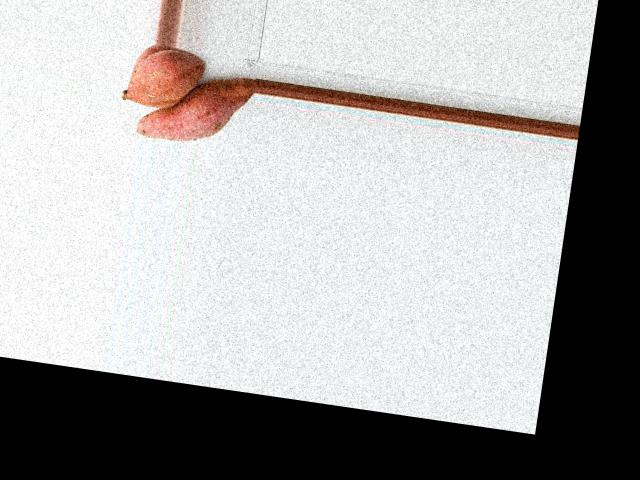sweet_potato: (120, 48, 201, 107)
